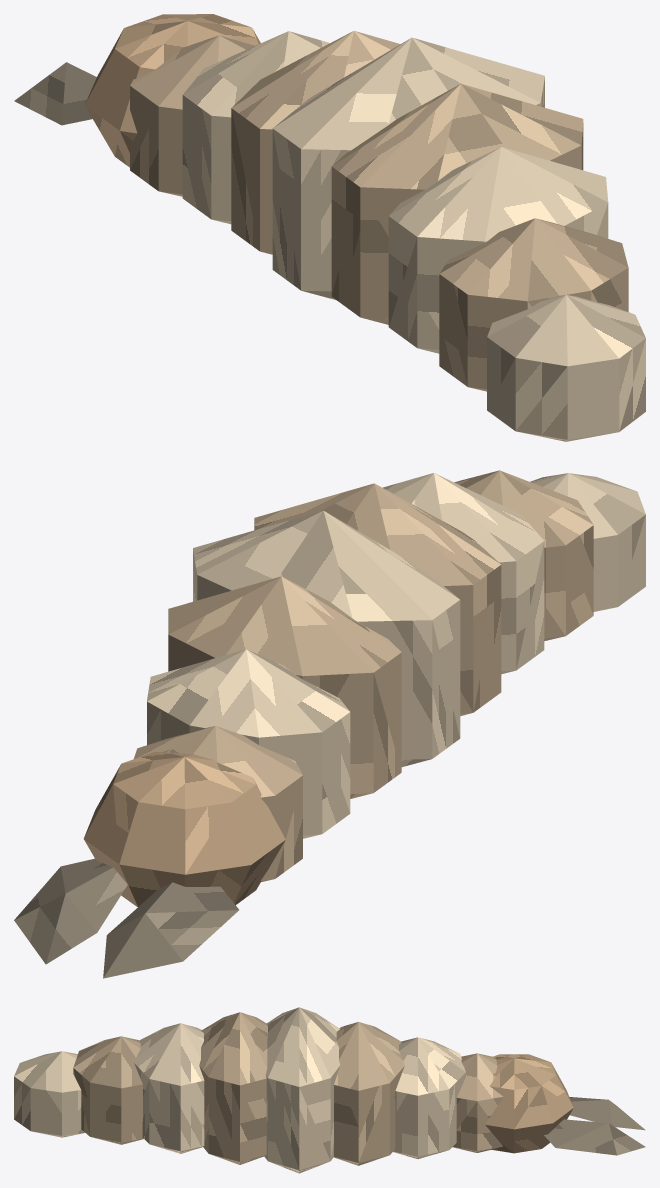
The model's file is mon_dermatik_larva.glb.
The picture shows the model from 3 angles, top to bottom: view 1: azimuth 30°, elevation 25°; view 2: azimuth 150°, elevation 25°; view 3: azimuth 270°, elevation 25°; orthographic projection. The views are drawn at different scales.
Parts seen in each view (by area): view 1: closed_body; view 2: closed_body; view 3: closed_body.
Boxes of the visible parts, box(x1,y1,x2,y2) form: closed_body: box(14, 14, 645, 441); closed_body: box(14, 470, 645, 978); closed_body: box(14, 1007, 645, 1173).
Bounding box in the file's own units: 0.1158 × 0.1179 × 0.4062.
1 material, 1 textured.
